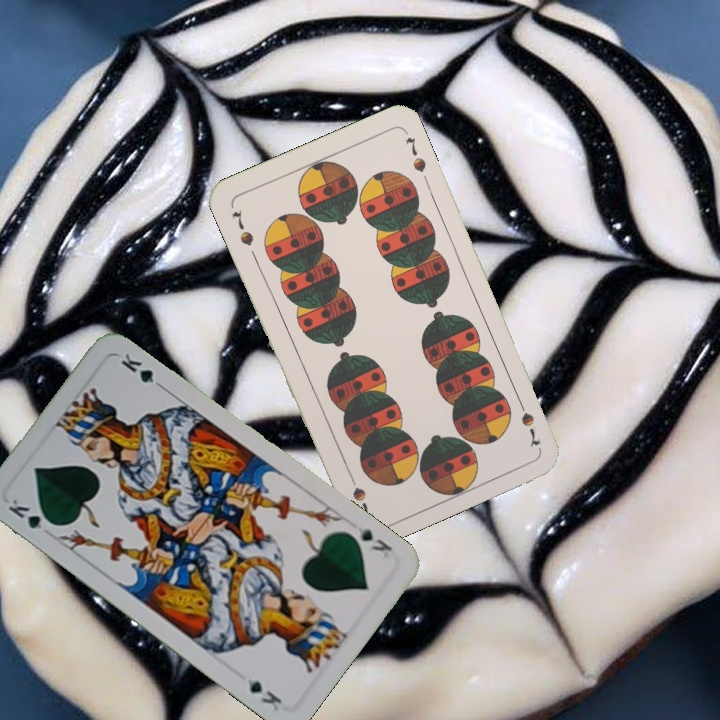GK: (4, 495, 59, 532), (354, 523, 395, 561)
S7: (513, 394, 543, 450), (228, 206, 256, 249)
